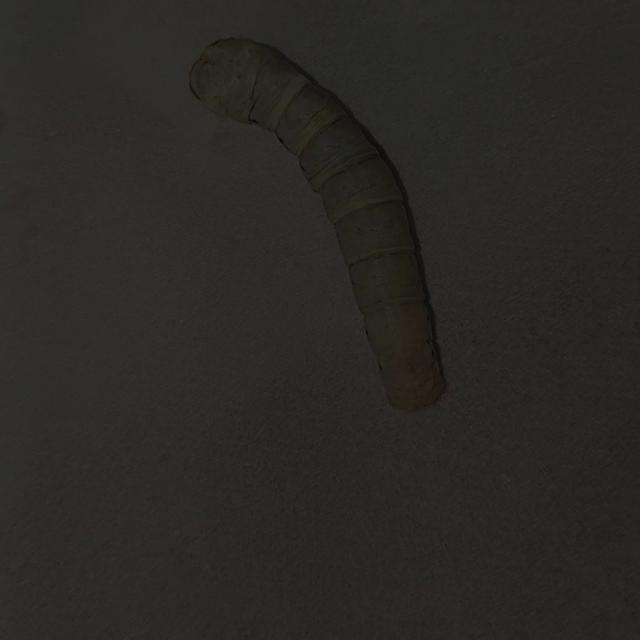Healthy: (182, 28, 452, 415)
